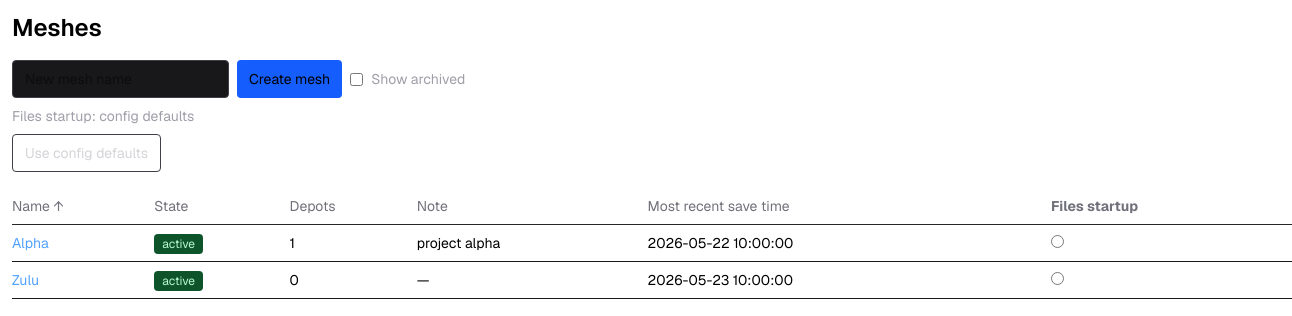
Test: MeshListClient [IMPL-MESH_GUI] › mesh_list_files_startup_column_sets_preference
Check: the link "Alpha" is shown, box [12,234,49,252]
Click the radio button with test id "mesh-list-files-startup-m1": (1058, 242) [1051,235,1064,248]
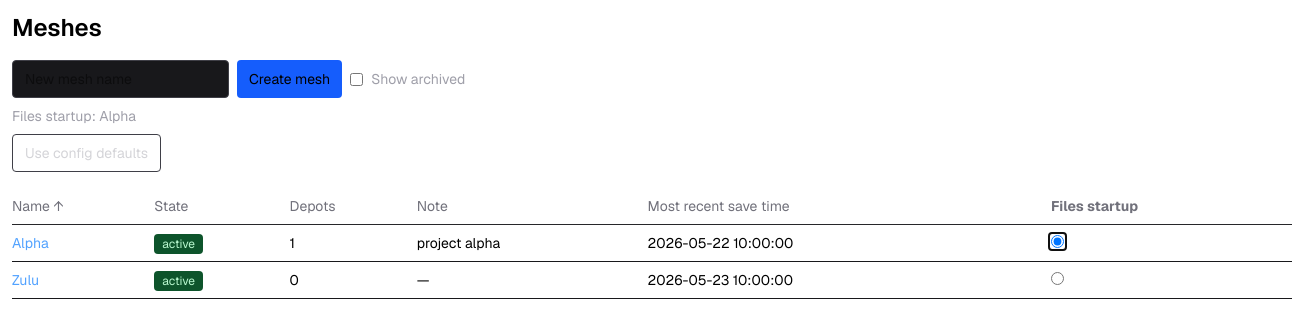
Check: the text with test id "files-startup-mesh-summary" reads "Files startup: Alpha", box [12,107,136,125]
Click the button with test id "files-startup-mesh-clear": (87, 153) [12,134,161,172]
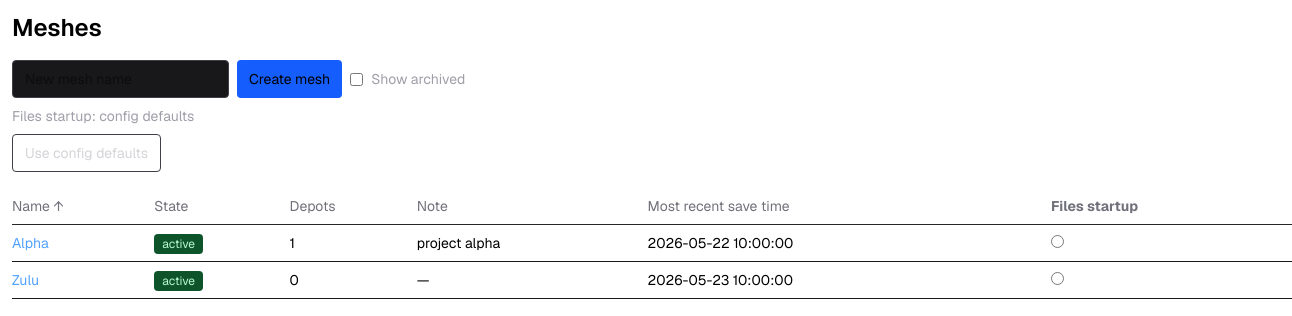
Check: the text with test id "files-startup-mesh-summary" reads "Files startup: config defaults", box [12,107,194,125]
